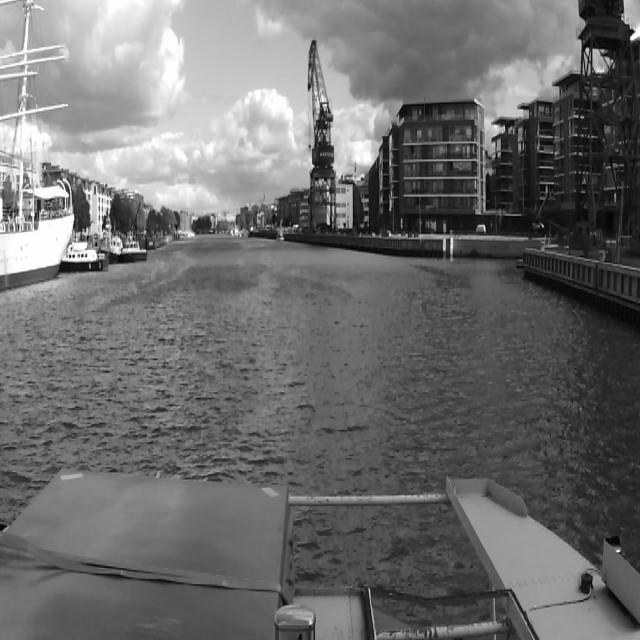ship: (0, 0, 74, 292), (73, 243, 105, 271), (120, 242, 148, 264)
